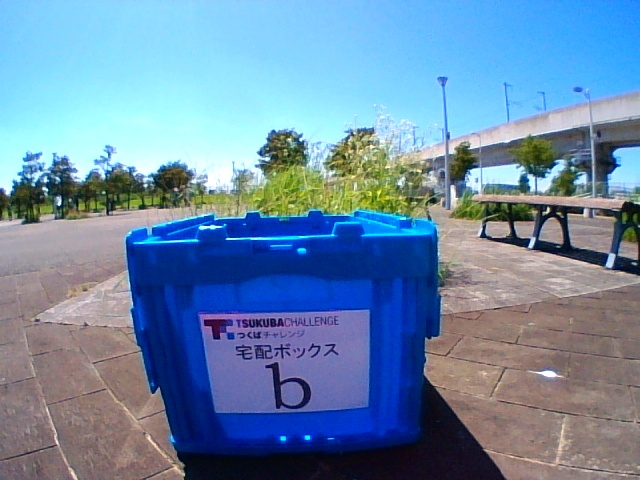blue_box: (174, 220, 413, 444)
tag_b: (216, 318, 369, 410)
